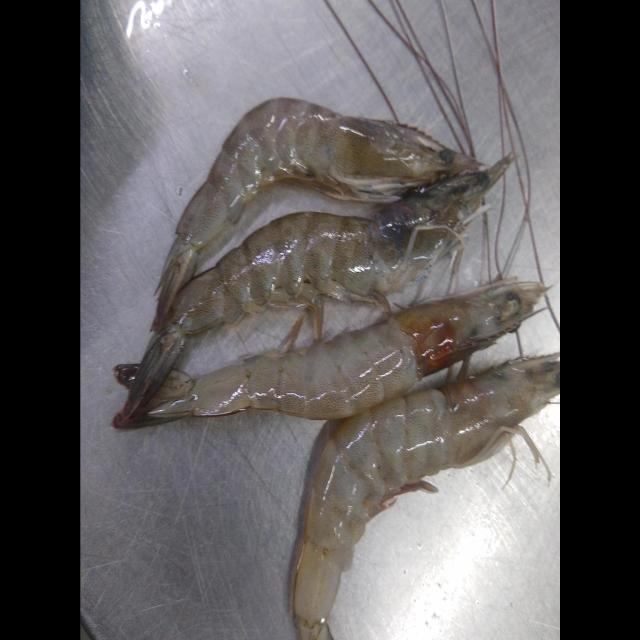shrimp: (150, 97, 482, 330), (292, 356, 560, 640), (114, 281, 546, 429), (167, 154, 512, 335)
